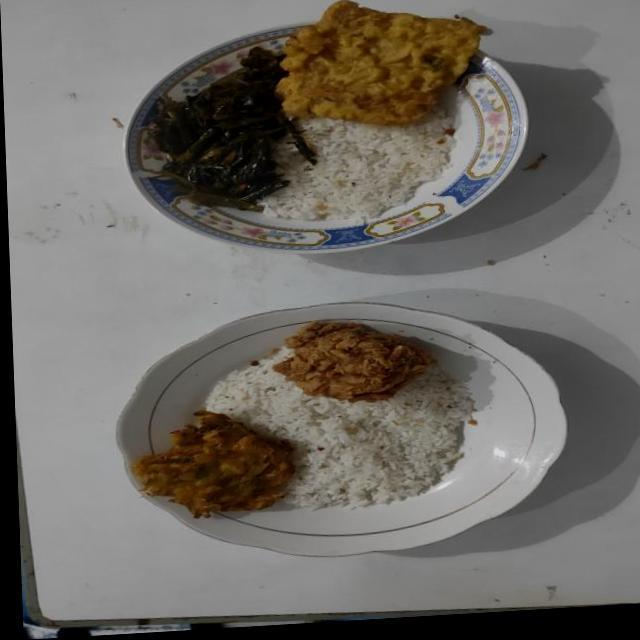nasi_putih: (206, 340, 474, 510), (262, 108, 456, 224)
tumis_kangkung: (148, 46, 317, 210)
